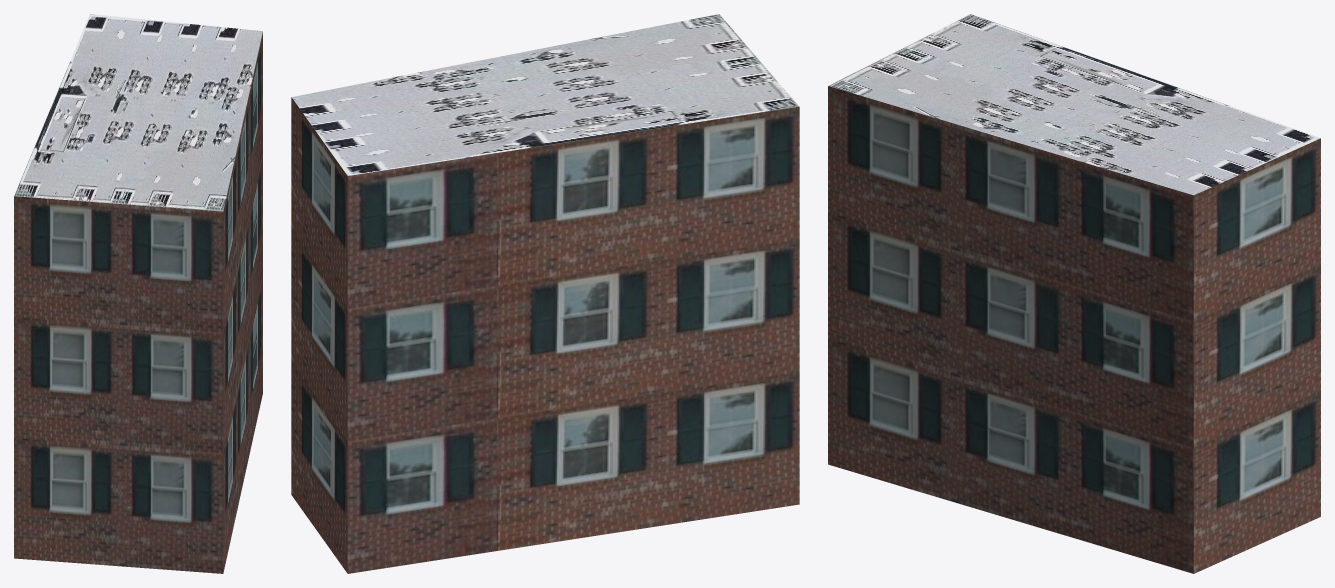
File: ResTex__427.fbx
3 renders of one model, left to right at view 1: azimuth 30°, elevation 25°; view 2: azimuth 150°, elevation 25°; view 3: azimuth 270°, elevation 25°, orthographic. The views are drawn at different scales.
Visible parts, largest first — view 1: CityEngineMaterial_14_m, CityEngineMaterial_8_m; view 2: CityEngineMaterial_14_m, CityEngineMaterial_8_m; view 3: CityEngineMaterial_14_m, CityEngineMaterial_8_m.
Part boxes in pixels (<box>): CityEngineMaterial_14_m: <box>14,32,262,573</box>; CityEngineMaterial_8_m: <box>14,14,262,211</box>; CityEngineMaterial_14_m: <box>291,97,799,573</box>; CityEngineMaterial_8_m: <box>291,14,798,175</box>; CityEngineMaterial_14_m: <box>828,86,1320,573</box>; CityEngineMaterial_8_m: <box>828,14,1320,195</box>.
Bounding box in the file's own units: 9.25 × 9 × 10.62.
Materials: 2 (2 with a texture image).
